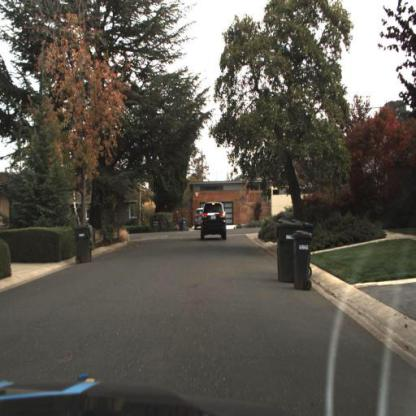car: (198, 194, 232, 247), (187, 203, 208, 241)
